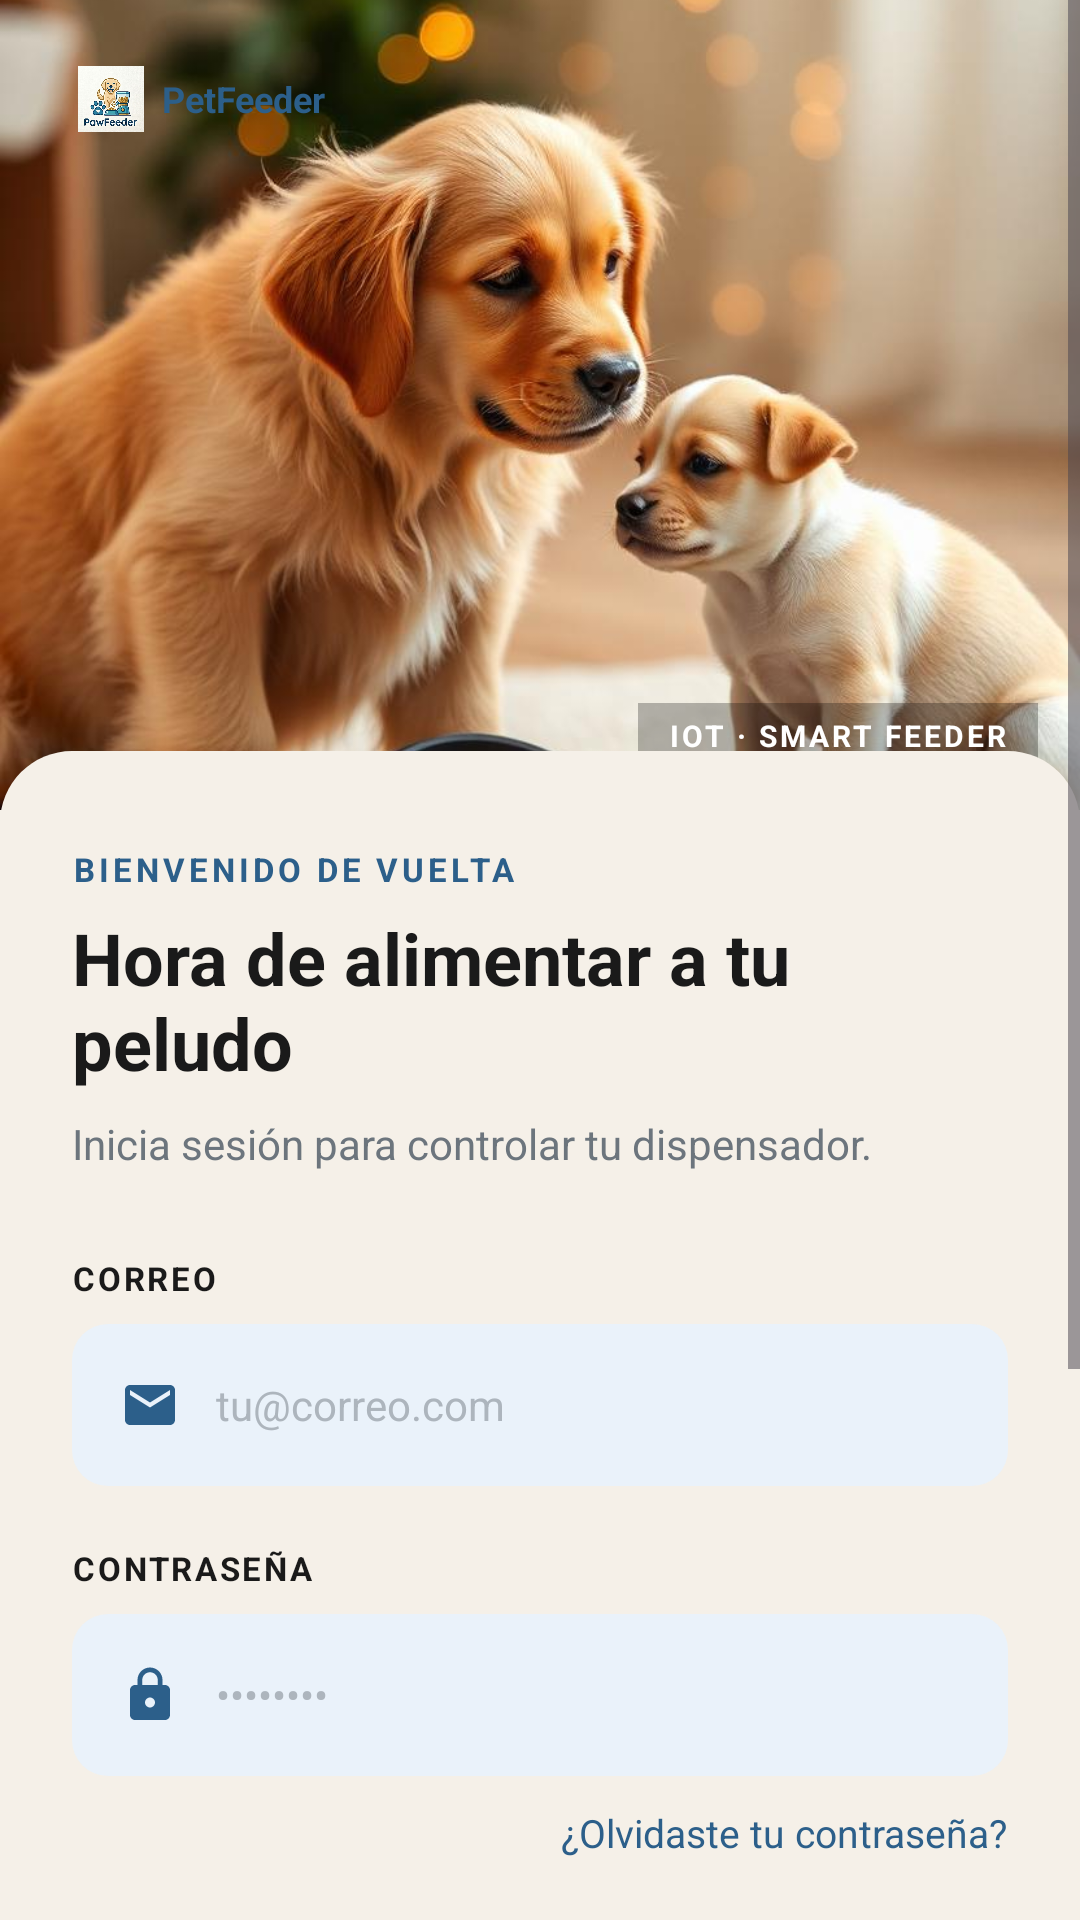

Screen size 1080px×1920px. Icon name, then its box in pixels as (x1, y1, x2, y2):
email: (125, 1385, 175, 1425)
lock: (130, 1667, 170, 1720)
